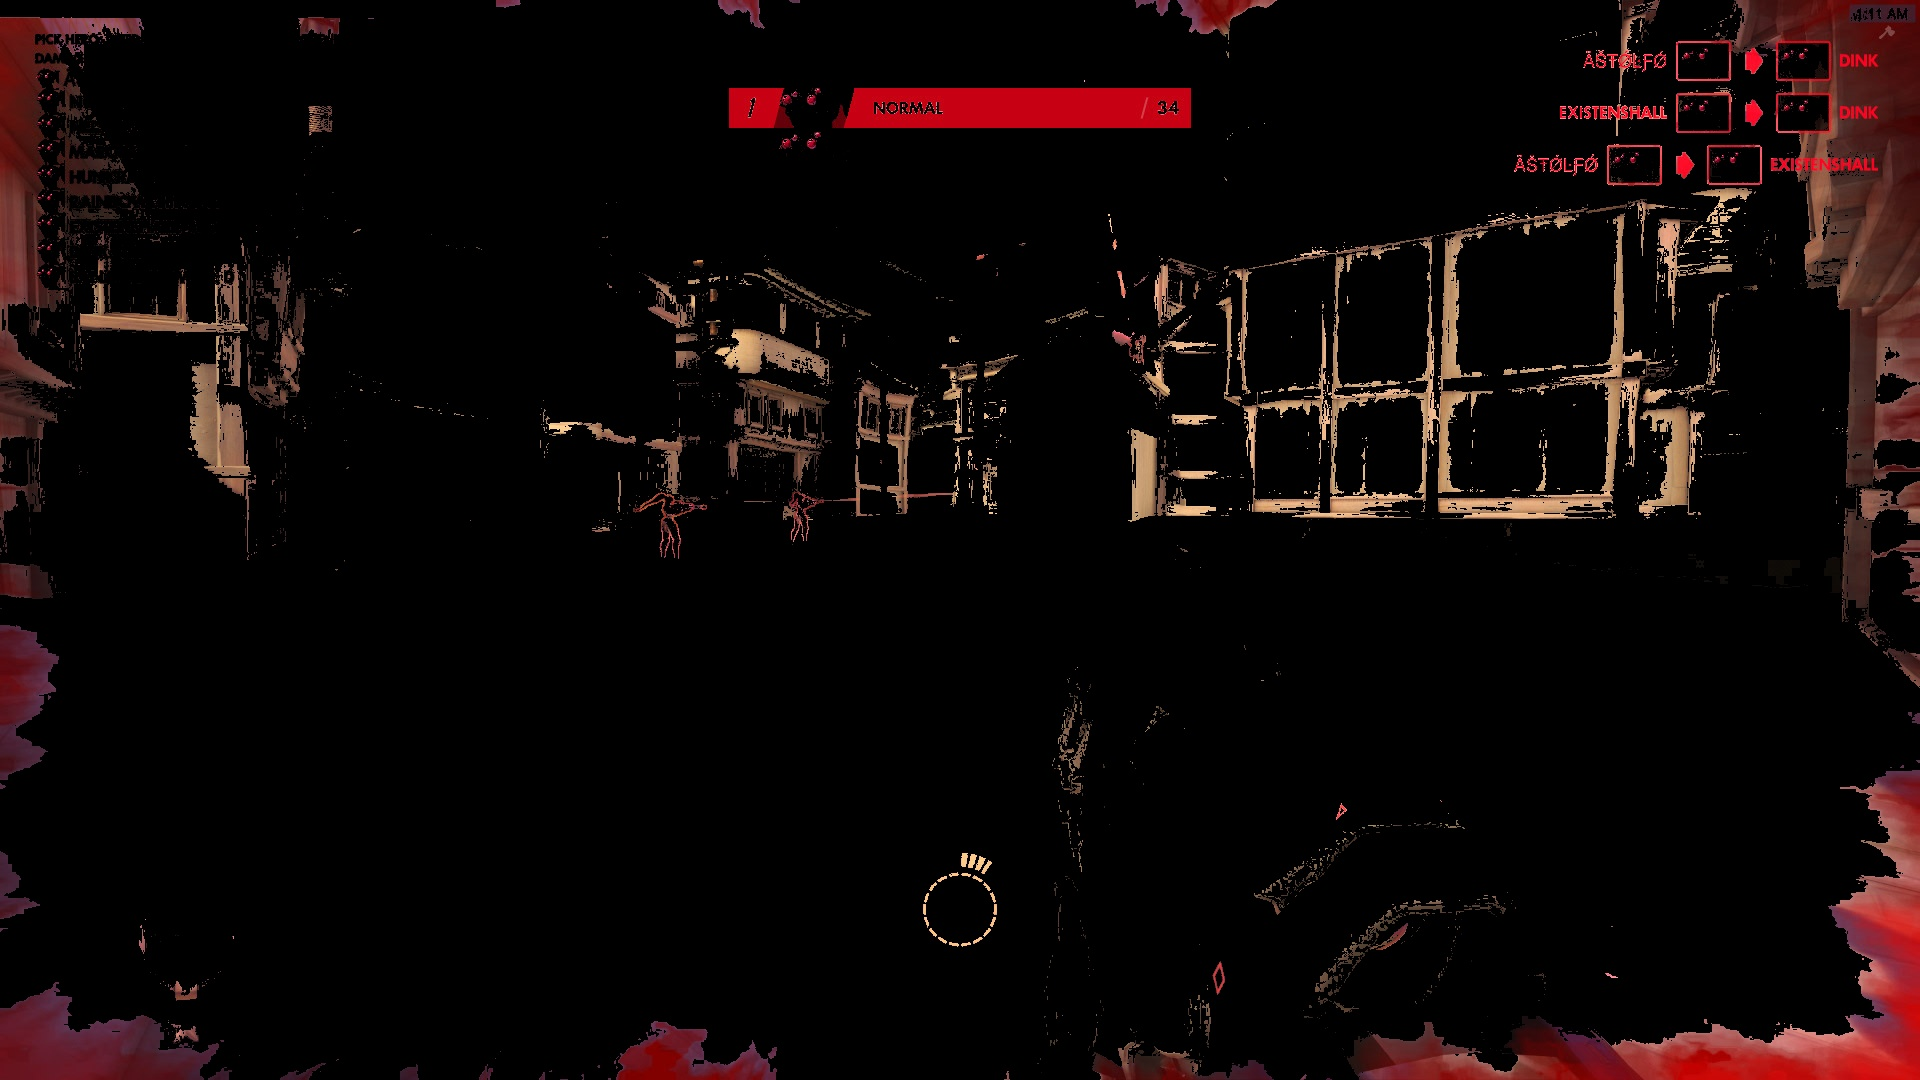widowmaker: (651, 491, 694, 570), (785, 489, 823, 551), (1134, 339, 1146, 367), (1127, 332, 1138, 359)
